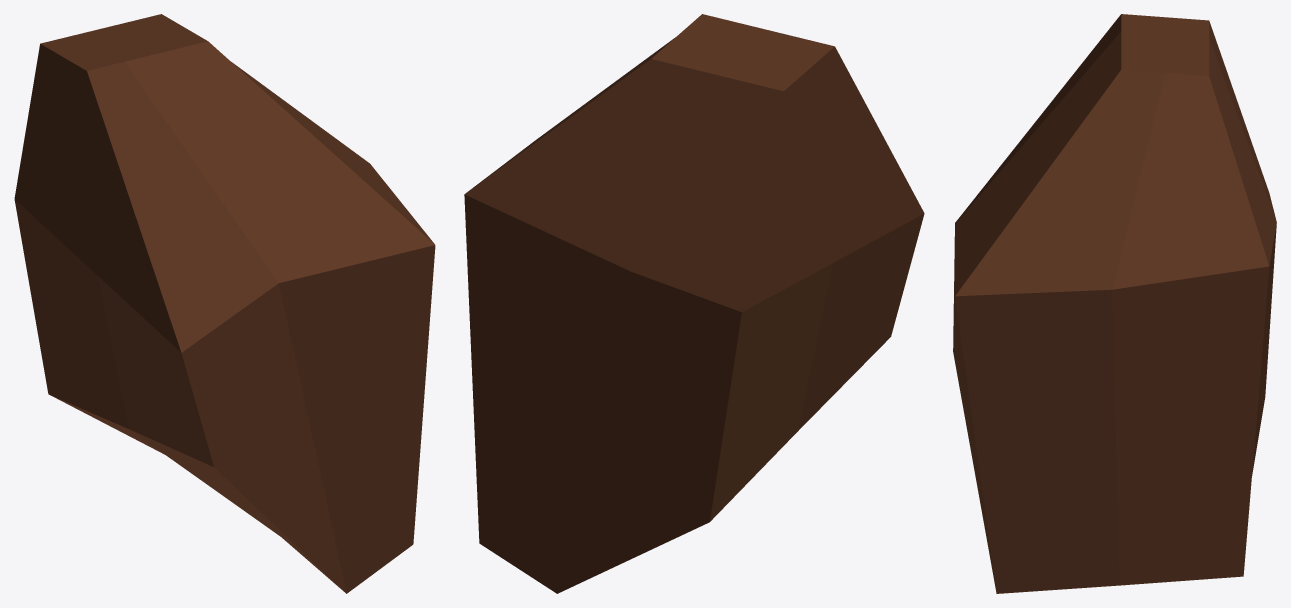
Rendered from kid_unhealthy_lung.glb.
3 views of the same model, side by side, from view 1: azimuth 30°, elevation 25°; view 2: azimuth 150°, elevation 25°; view 3: azimuth 270°, elevation 25° (orthographic). The views are drawn at different scales.
Visible parts, largest first — view 1: kid_healthy_lung.001; view 2: kid_healthy_lung.001; view 3: kid_healthy_lung.001.
Part boxes in pixels (x1,y1,x2,y2): kid_healthy_lung.001: (14,14,435,593); kid_healthy_lung.001: (464,14,924,593); kid_healthy_lung.001: (953,14,1276,593).
Size of the model in its own units: 0.2251 by 0.403 by 0.2408.
